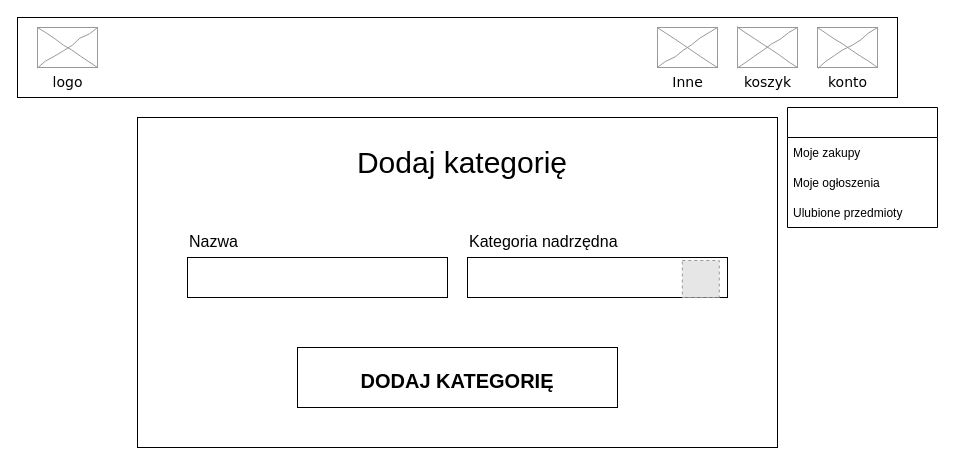
Image size: 955x465. Some labels were removed from this diagram. Grey dashed boxes stand in for pictures. Here are the shapes that lost their labels. From the top down, the box of each, then its label:
(786, 106, 938, 228): Moje konto
(186, 256, 448, 298): Podaj nazwę kategorii
(466, 256, 728, 298): Wybierz kategorię...
